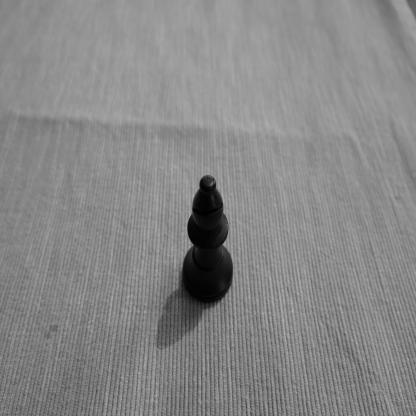black-bishop: (181, 174, 233, 306)
